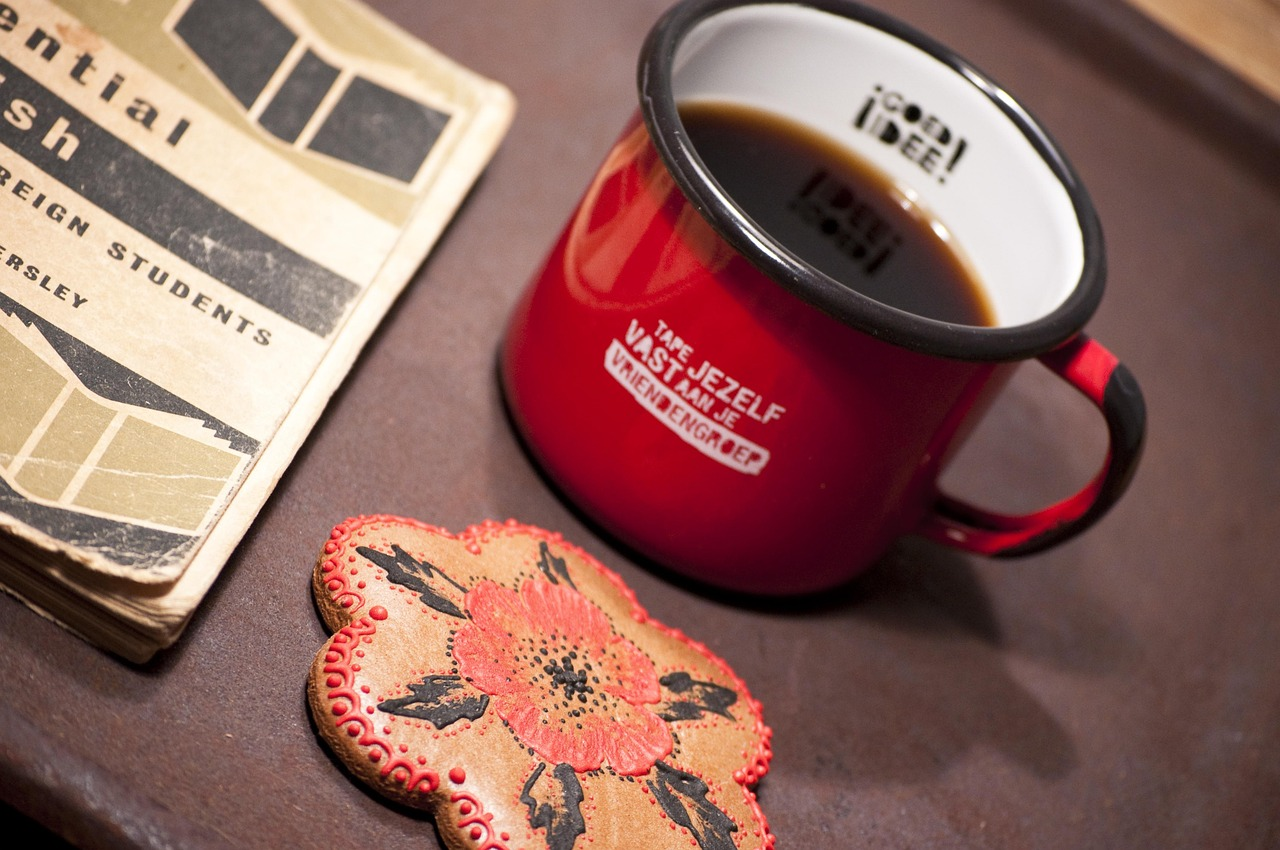mug: (454, 6, 1163, 608)
